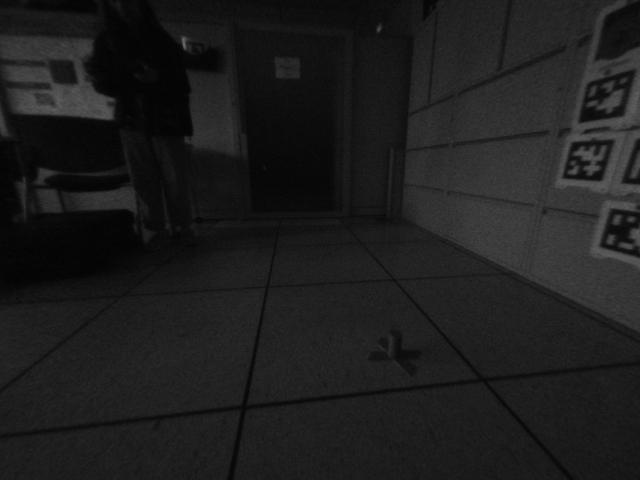x: (367, 327, 423, 377)
